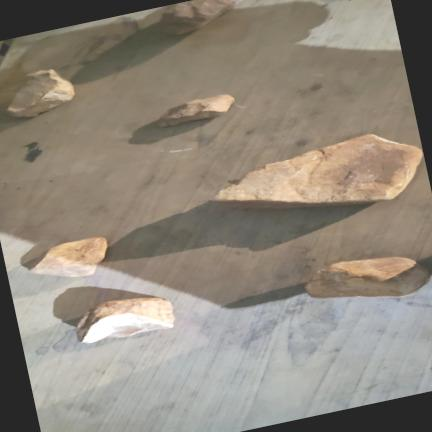Rocks: (215, 135, 422, 208), (306, 257, 429, 298), (77, 298, 174, 343), (7, 70, 75, 117), (30, 237, 107, 276), (161, 0, 242, 34), (158, 95, 234, 126)
